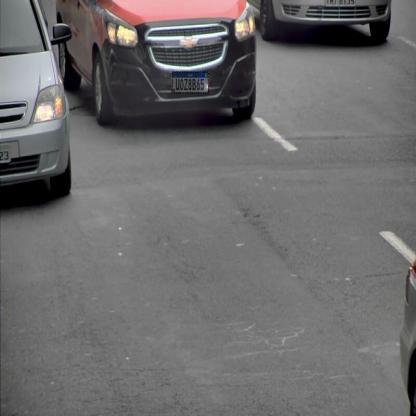PlacaM: (172, 72, 209, 93)
